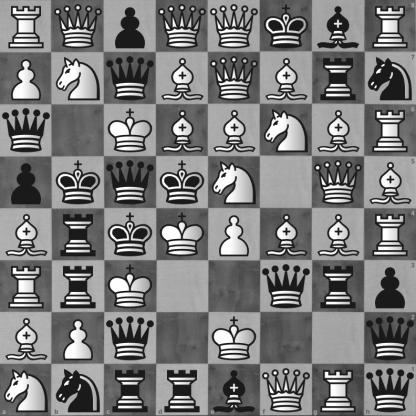B: (364, 156, 416, 209), (1, 209, 52, 260), (1, 313, 52, 364), (157, 53, 208, 104), (157, 105, 208, 156), (209, 105, 260, 156), (261, 53, 312, 104), (261, 209, 312, 260), (313, 105, 364, 156), (313, 209, 364, 260)
K: (105, 105, 156, 156), (105, 261, 156, 312), (157, 209, 208, 260), (209, 313, 260, 364)
N: (0, 364, 52, 416), (53, 53, 104, 104), (209, 157, 260, 208), (261, 105, 312, 156)
P: (1, 53, 52, 104), (53, 313, 104, 364), (209, 209, 260, 260)
Q: (260, 364, 312, 416), (53, 1, 104, 52), (157, 1, 208, 52), (209, 1, 260, 52), (209, 53, 260, 104), (313, 157, 364, 208)
R: (312, 364, 364, 416), (364, 0, 416, 52), (364, 104, 416, 156), (364, 209, 416, 260), (1, 1, 52, 52), (1, 261, 52, 312)
b: (209, 364, 260, 416), (313, 1, 364, 52)
board: (0, 0, 415, 415)
k: (53, 157, 104, 208), (105, 209, 156, 260), (157, 157, 208, 208), (261, 1, 312, 52)
n: (52, 364, 104, 416), (364, 52, 416, 104)
p: (364, 260, 416, 312), (1, 157, 52, 208), (105, 1, 156, 52)
q: (364, 312, 416, 364), (364, 364, 416, 416), (1, 105, 52, 156), (105, 53, 156, 104), (105, 157, 156, 208), (105, 313, 156, 364), (261, 261, 312, 312)
r: (156, 364, 209, 416), (104, 364, 156, 416), (53, 209, 104, 260), (53, 261, 104, 312), (313, 53, 364, 104), (313, 261, 364, 312)
